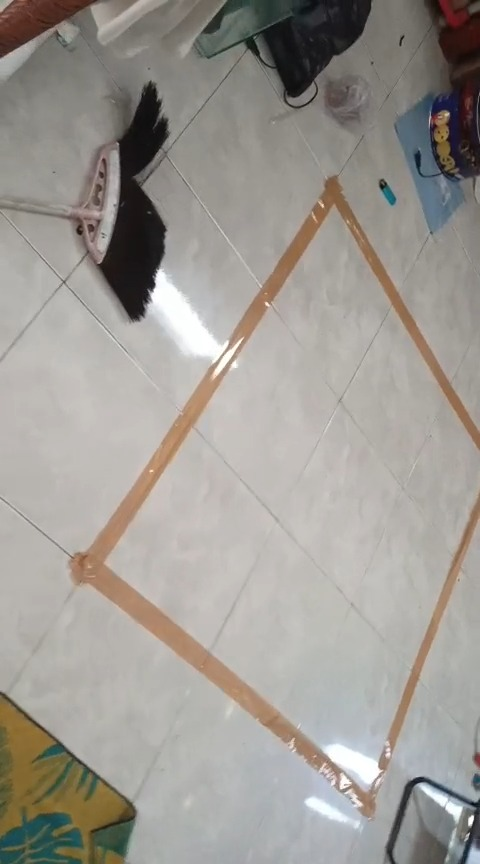floor marking: (71, 178, 479, 816)
